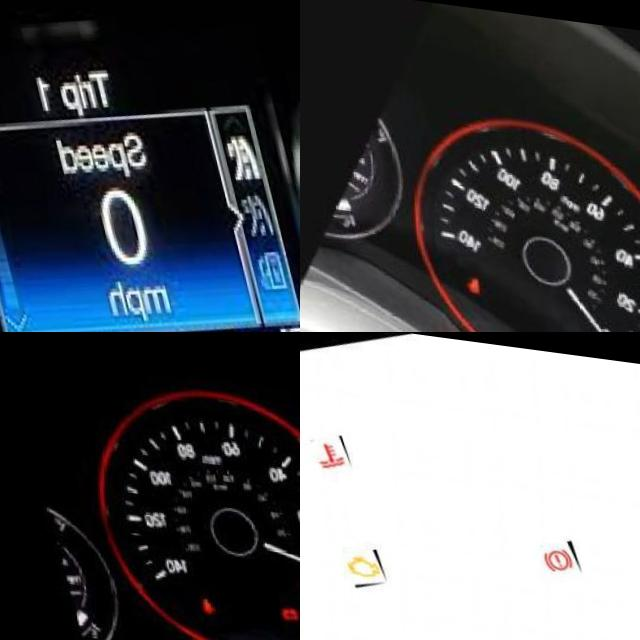Seat Belt: (457, 271, 480, 296), (193, 591, 211, 610)
Washer Fluid: (209, 319, 249, 332)
